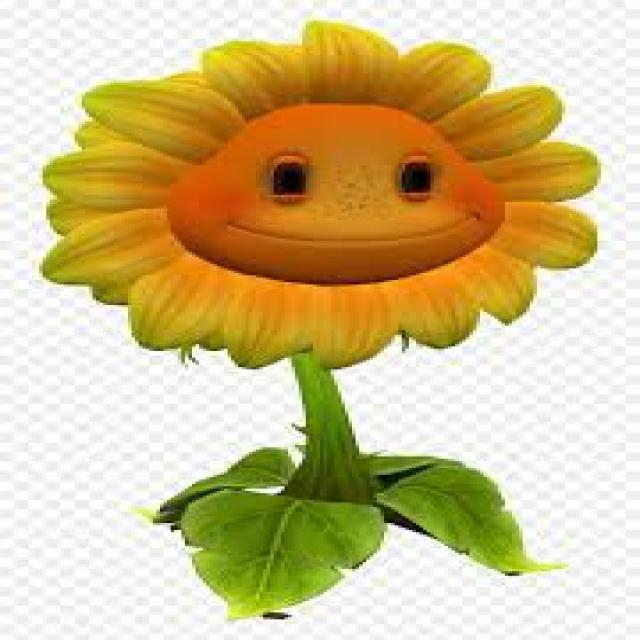sunflower: (35, 18, 601, 370)
